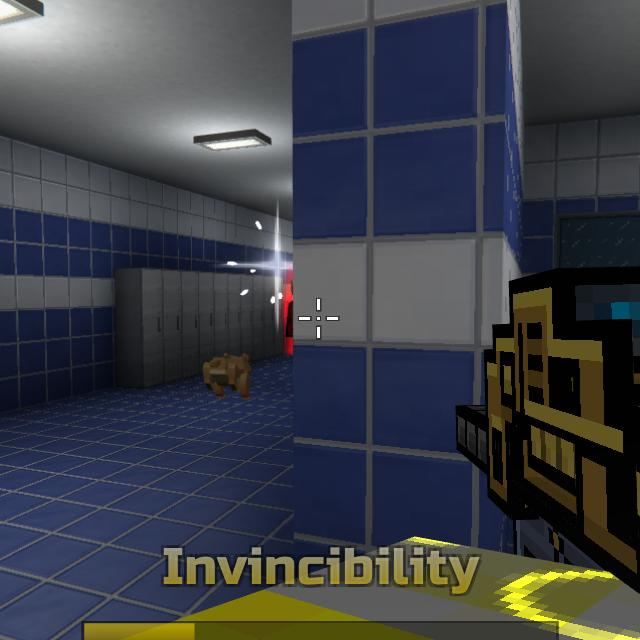Enemy: (285, 301, 292, 338)
